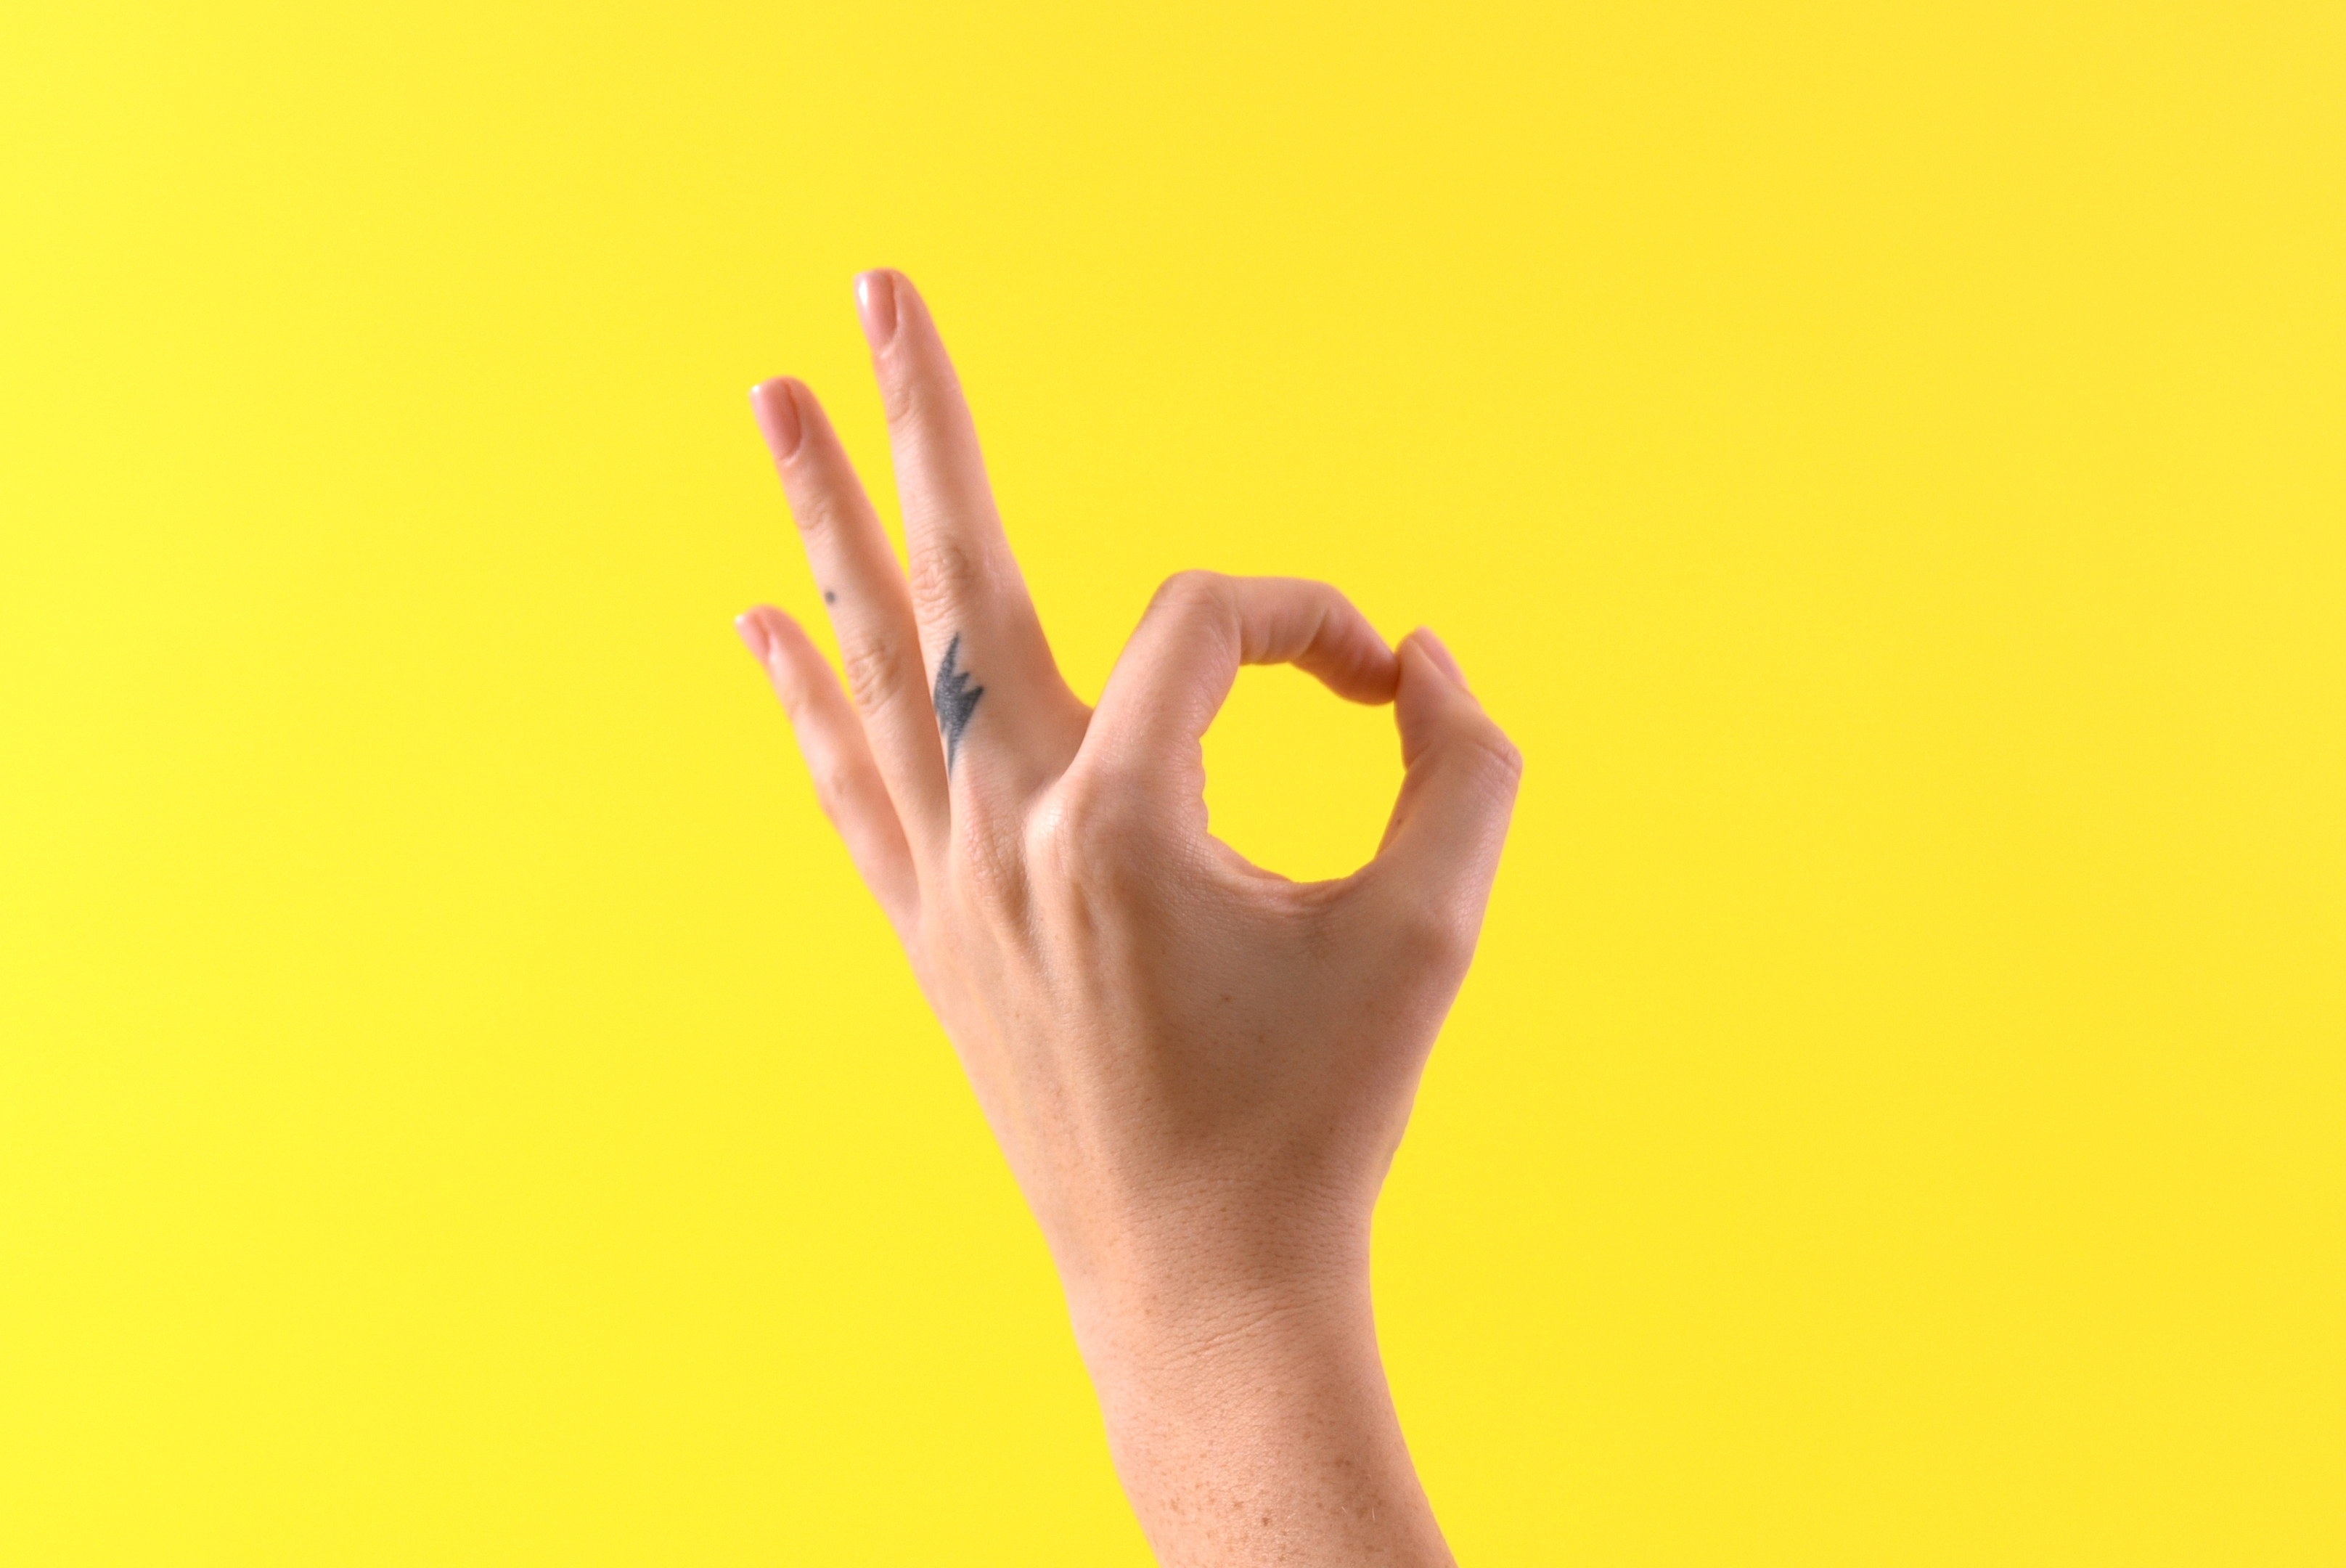oksign: (730, 273, 1529, 1207)
